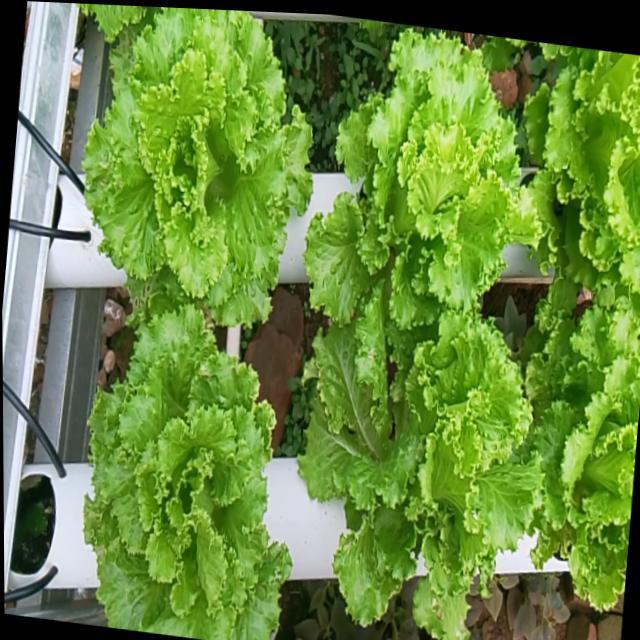Mature: (301, 315, 548, 640), (83, 282, 293, 640), (309, 25, 540, 346), (84, 5, 319, 314), (536, 307, 640, 616), (537, 46, 640, 302)
